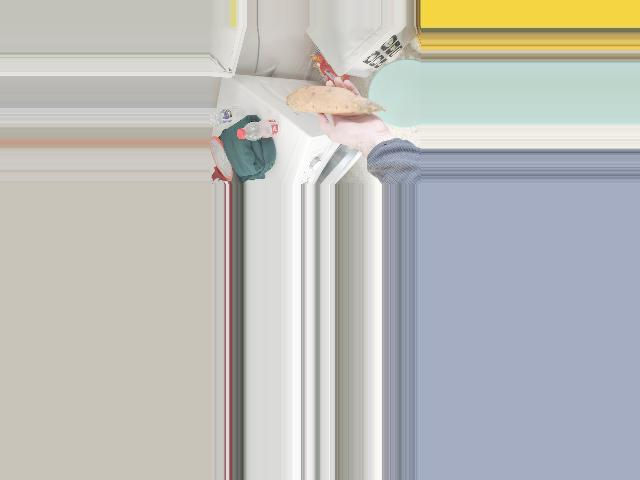sweet_potato: (294, 91, 380, 117)
